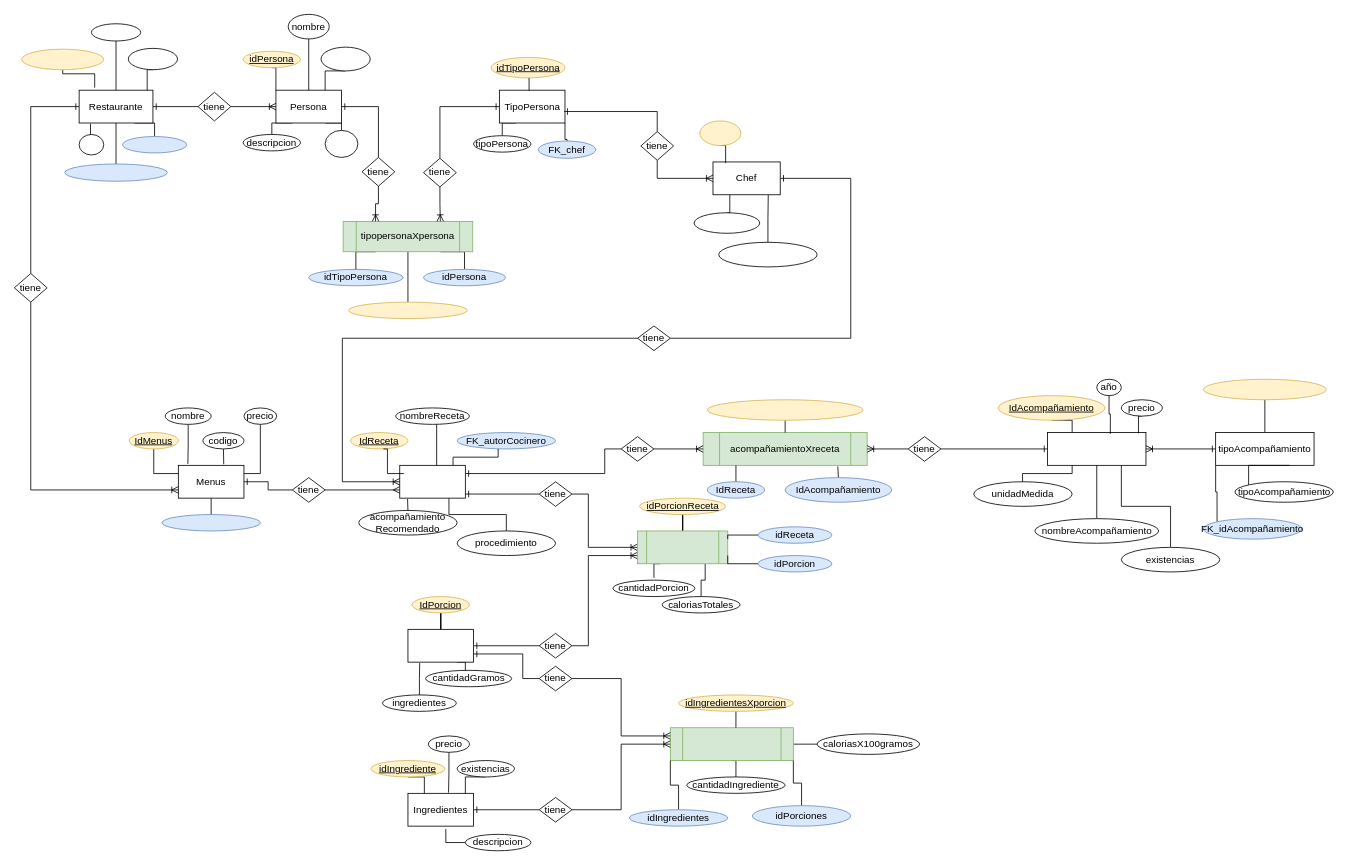
Image size: 1348x865. Some labels were removed from this diagram. Each missing label, with the centre of its shape:
"Acompañamiento" goes at point 1096,448.
"apellido" goes at point 345,58.
"direccion" goes at point 116,32.
"edad" goes at point 341,143.
"FK_idPersonas" goes at point 115,172.
"FK_menu" goes at point 154,144.
"FK_nombreReceta" goes at point 210,522.
"idAcompañamientoXreceta" goes at point 784,409.
"idChef" goes at point 720,133.
"idRestaurante" goes at point 62,59.
"idTipoAcompañamiento" goes at point 1264,389.
"idTipopersonaXpersona" goes at point 407,310.
"igredientesXporcion" goes at point 731,744.
"nit" goes at point 91,144.
"paisOrigen" goes at point 726,222.
"Porciones" goes at point 440,645.
"porcionXreceta" goes at point 682,547.
"Recetas" goes at point 432,481.
"recetas_de_autoria" goes at point 767,254.
"telefono" goes at point 153,59.
